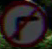Don't turn right: (9, 6, 37, 39)
